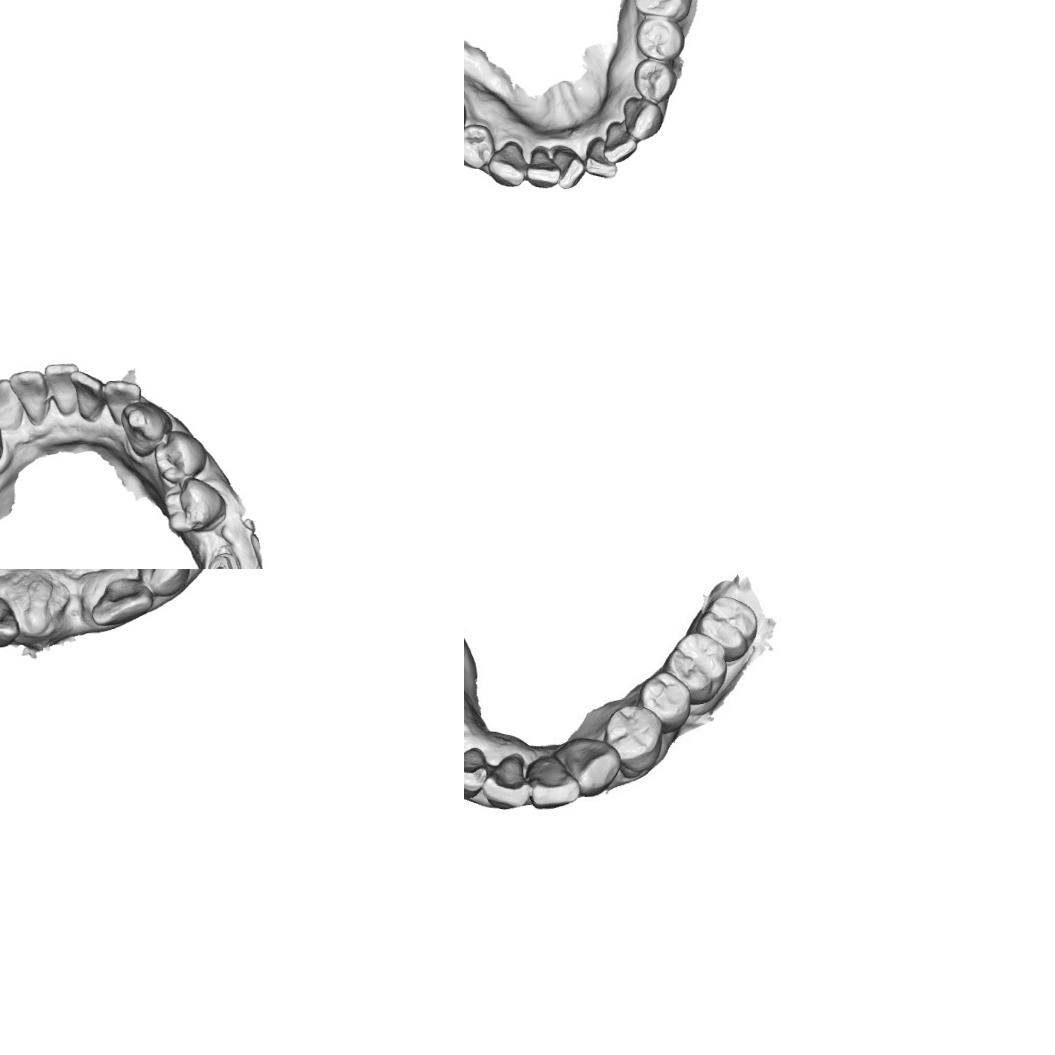canine: (565, 736, 620, 798), (117, 398, 172, 458), (485, 138, 531, 188), (621, 95, 665, 142), (132, 569, 192, 599), (0, 376, 24, 433)
implant_minus: (204, 550, 243, 569)
incisor: (89, 576, 157, 630), (485, 746, 532, 812), (530, 751, 576, 808), (6, 367, 50, 426), (66, 368, 106, 424), (100, 377, 142, 428), (42, 361, 80, 416), (550, 142, 586, 190), (524, 145, 562, 190), (581, 135, 618, 181), (601, 121, 638, 166), (464, 746, 490, 799), (0, 593, 23, 650)
molar: (668, 631, 734, 698), (698, 594, 757, 654), (631, 0, 695, 21)
premolar: (160, 474, 229, 536), (600, 704, 660, 774), (150, 428, 209, 487), (638, 670, 692, 730), (633, 15, 685, 62), (630, 58, 676, 104), (464, 121, 495, 171)
